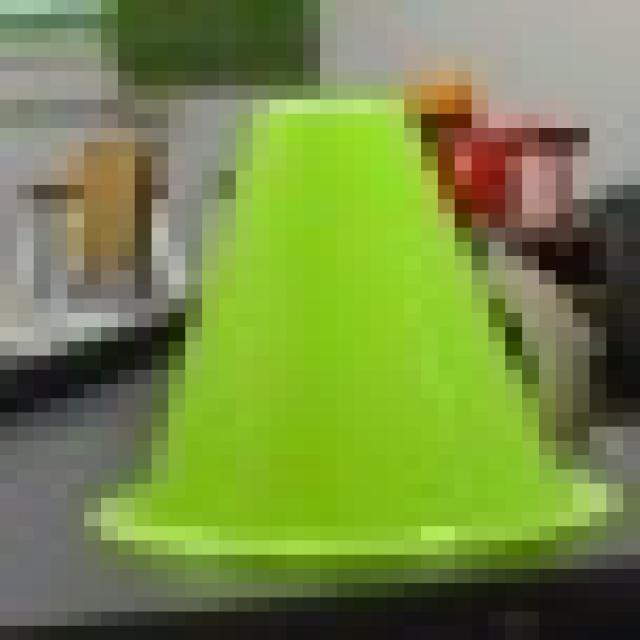cono: (67, 85, 624, 569)
